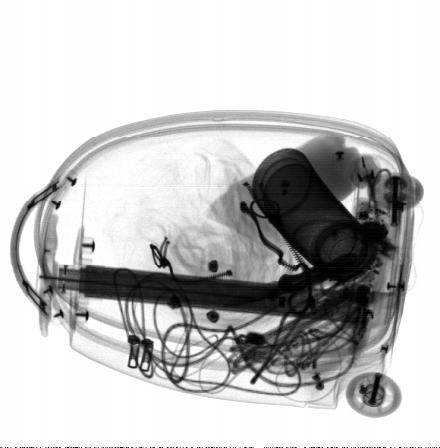Knife: (222, 253, 361, 307)
